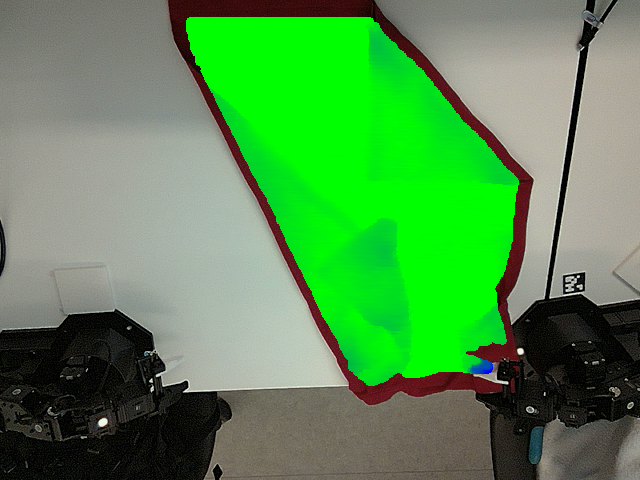V: (313, 242, 358, 291), (358, 142, 397, 187)
